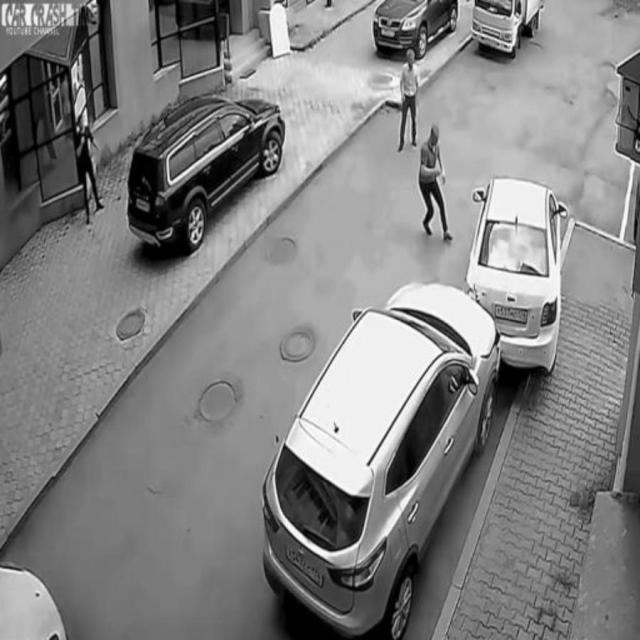accident: (264, 181, 562, 621)
person: (417, 114, 458, 246), (74, 106, 106, 222), (398, 44, 423, 152)
vehicle: (128, 96, 286, 250), (370, 1, 463, 67), (469, 0, 547, 58)
